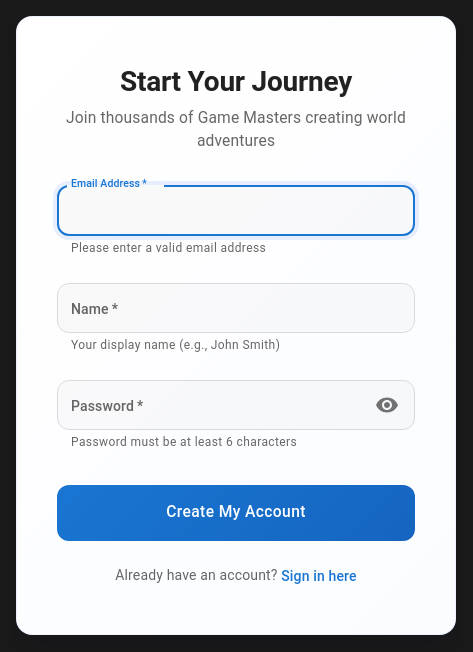
Test: SimpleRegistrationForm › email validation › should clear email validation error when user starts typing
The width and height of the screenshot is (473, 652).
# Submit to trigger validation error
Step 1. Click the button "Create My Account" → [236, 513], box [57,485,415,541]
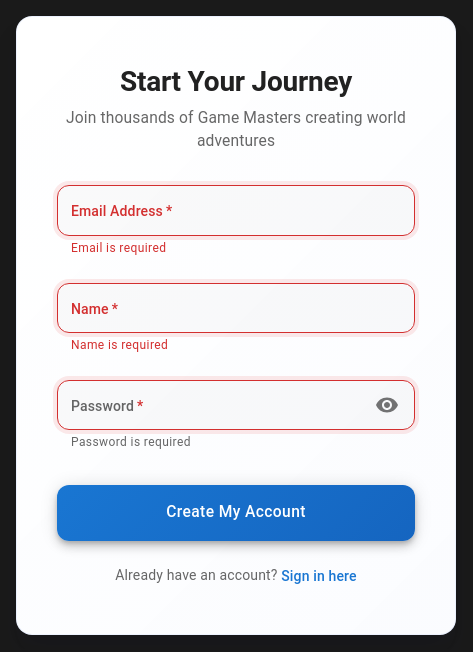
Check: the text "Email is required" is shown, box [71,241,166,255]
# Start typing to clear error
Step 2. Type "t" into the field with id "email" → [236, 211], box [57,185,415,236]
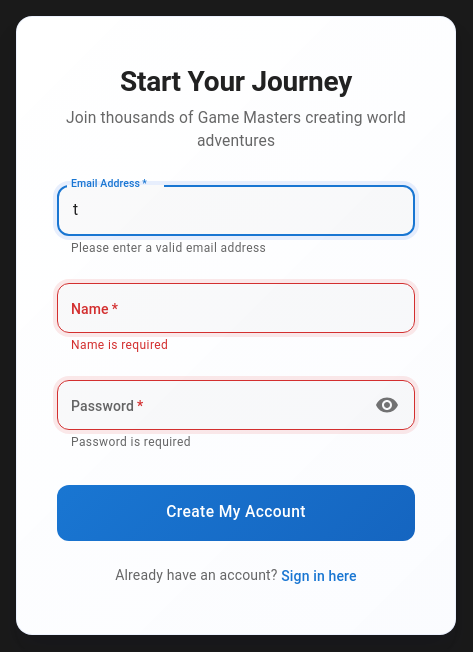
Check: the text "Email is required" is gone
